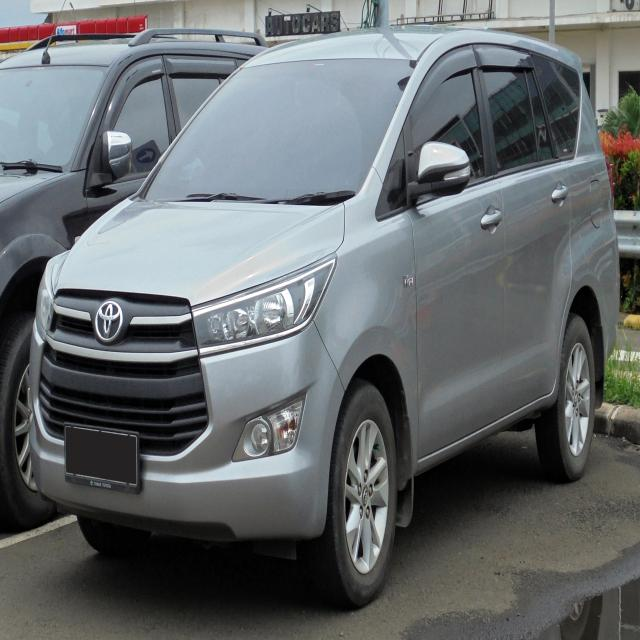light_vehicle: (29, 24, 620, 607)
